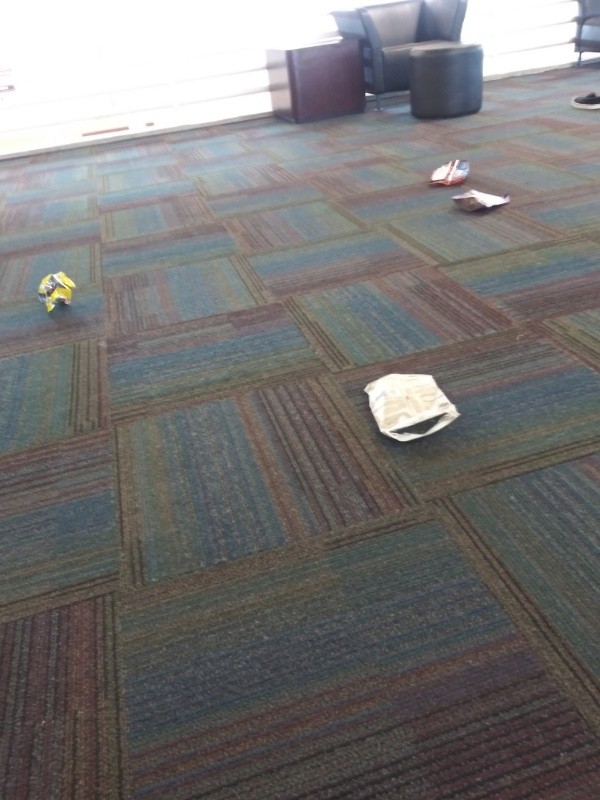bag: (362, 368, 464, 450), (32, 267, 82, 316), (445, 189, 515, 218), (424, 155, 477, 189)
